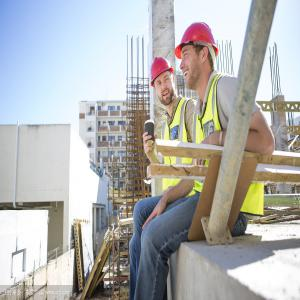red: (177, 21, 220, 93), (150, 57, 179, 107)
